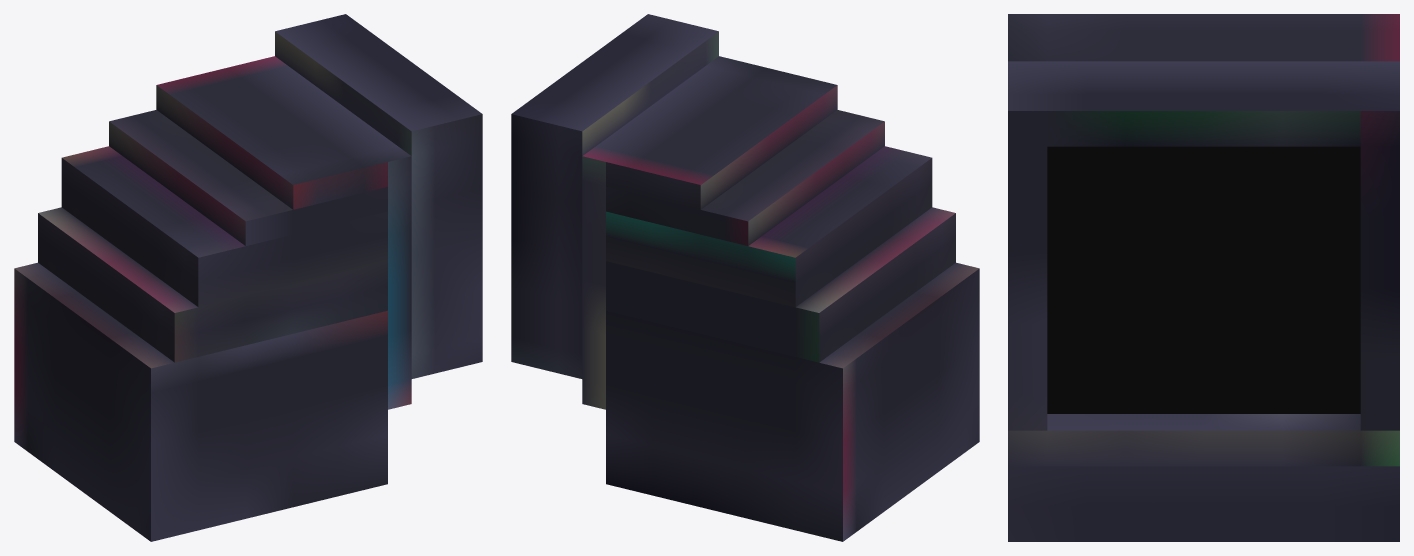
The model's file is Vent_Module_C_00.fbx.
The picture shows the model from 3 angles, left to right: view 1: azimuth 30°, elevation 25°; view 2: azimuth 150°, elevation 25°; view 3: azimuth 270°, elevation 25°; orthographic projection. The views are drawn at different scales.
Parts seen in each view (by area): view 1: Vent_Module_C_00; view 2: Vent_Module_C_00; view 3: Vent_Module_C_00.
Boxes of the visible parts, bbox=[...] form: Vent_Module_C_00: bbox=[14, 14, 482, 541]; Vent_Module_C_00: bbox=[511, 14, 979, 541]; Vent_Module_C_00: bbox=[1008, 14, 1399, 541].
Bounding box in the file's own units: 70 × 70 × 50.
